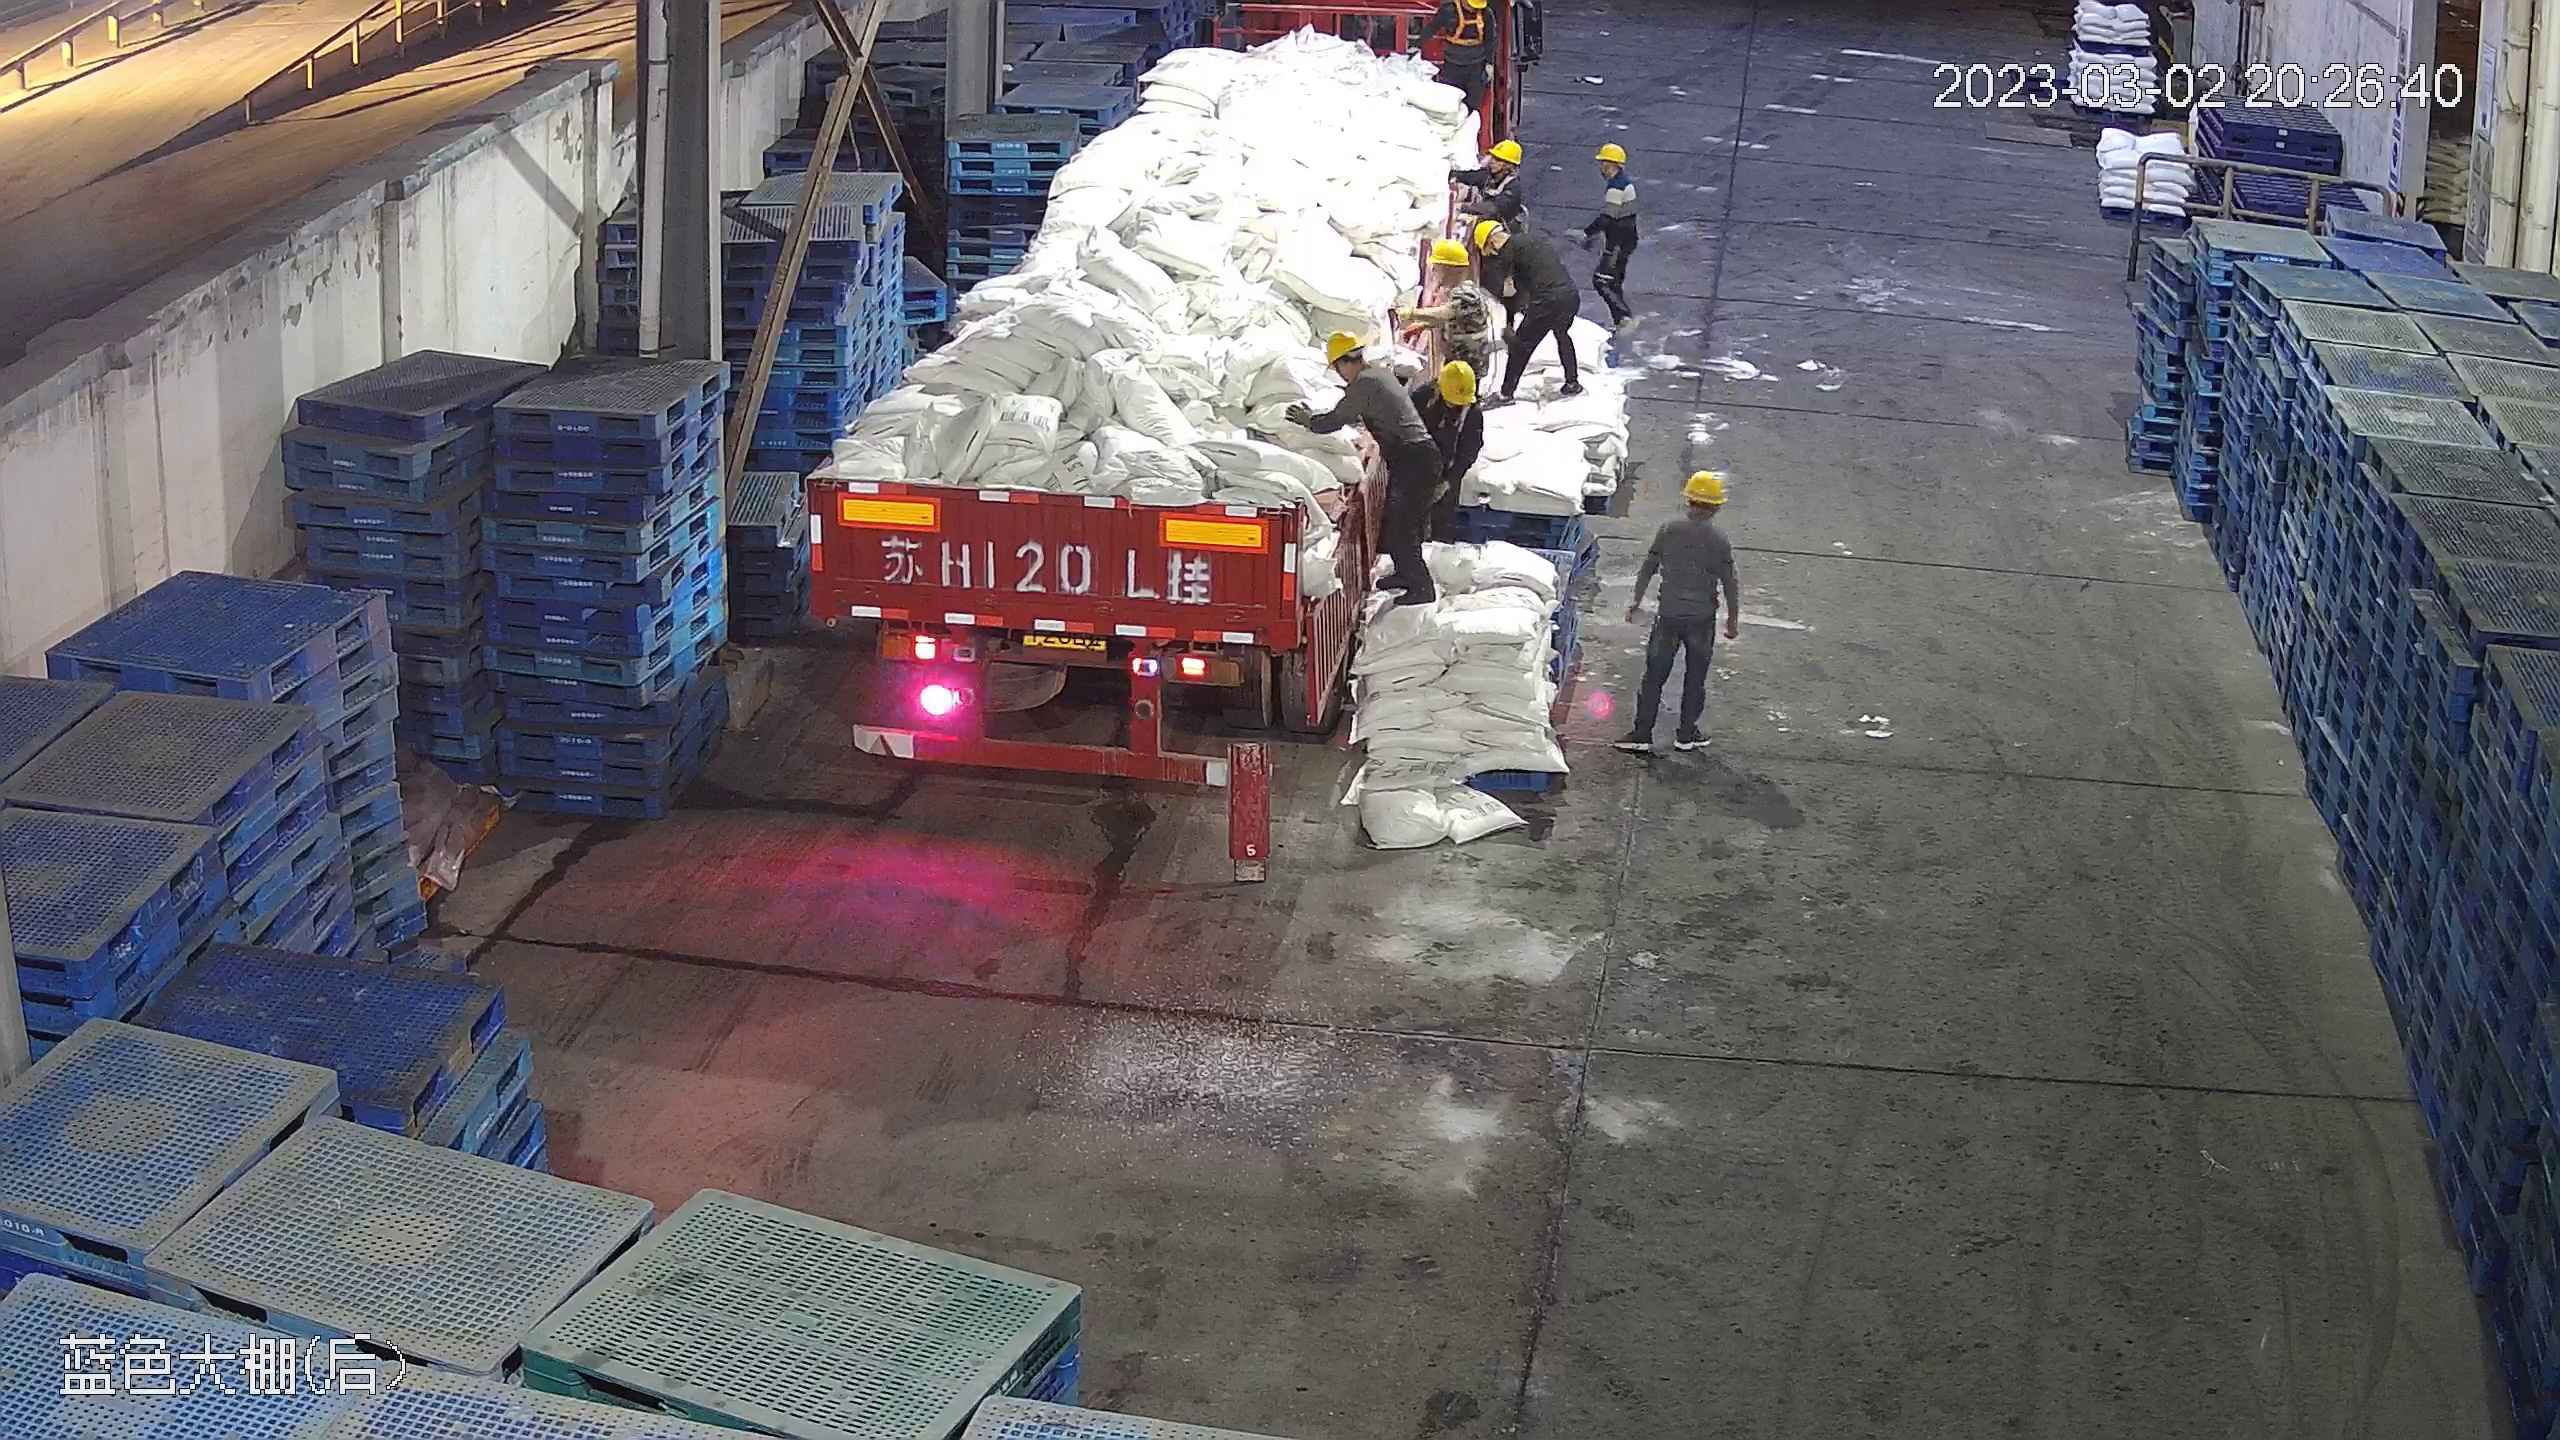belt: (1447, 284, 1496, 341), (1422, 382, 1477, 430), (1442, 7, 1488, 49), (1478, 169, 1512, 197)
head: (1629, 464, 1740, 747), (1315, 327, 1407, 417), (1649, 469, 1734, 565), (1406, 234, 1492, 315), (1473, 218, 1555, 281), (1466, 136, 1533, 203), (1590, 142, 1639, 204)
helmet: (1591, 140, 1639, 203), (1437, 357, 1477, 402), (1425, 234, 1474, 269), (1322, 328, 1366, 365), (1680, 469, 1727, 502), (1470, 221, 1502, 254), (1489, 137, 1524, 164), (1593, 141, 1625, 164)
people: (1274, 327, 1436, 614), (1627, 465, 1741, 754), (1468, 210, 1591, 402), (1390, 342, 1481, 597), (1391, 249, 1490, 482), (1580, 141, 1642, 332)
truck: (786, 8, 1502, 793)
